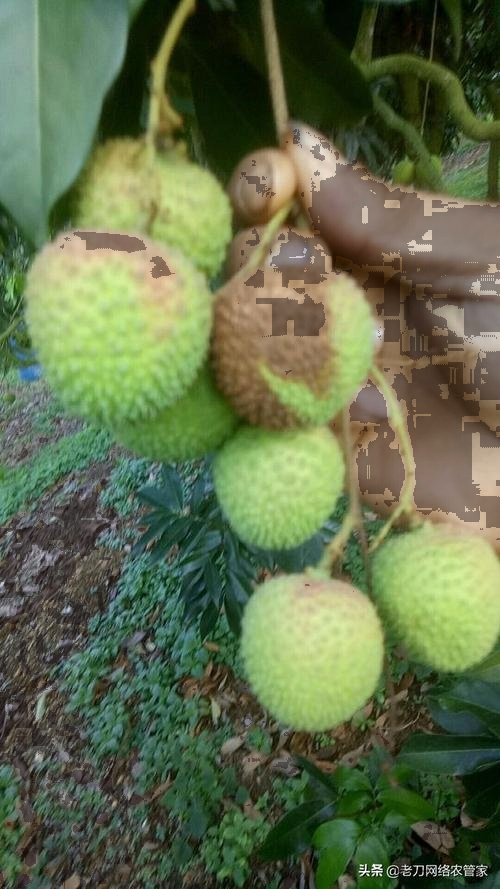Anthracnose: (212, 243, 369, 460), (11, 163, 177, 352), (269, 530, 376, 607)
